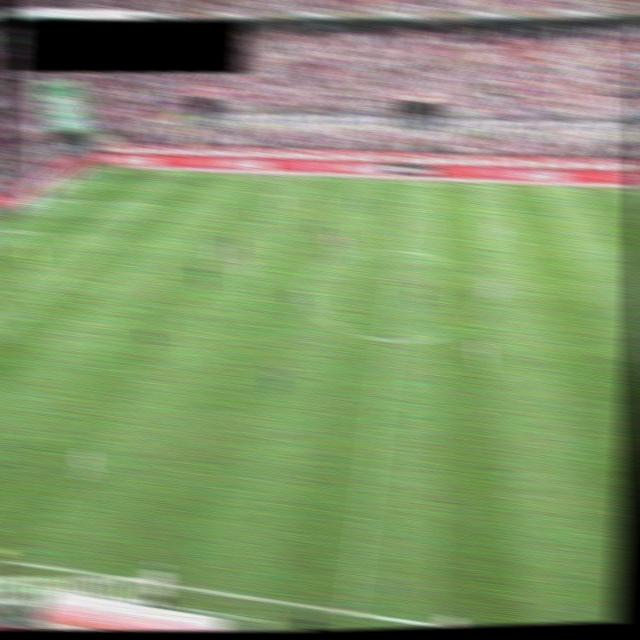bigarea_top_inner: (139, 197, 159, 209)
bigarea_top_outter: (39, 192, 60, 206)
bottom_arc_area_intersection: (26, 292, 50, 312)
corner: (86, 164, 107, 177)
halfcircle_bottom: (378, 332, 398, 347)
halfcircle_top: (391, 242, 412, 258)
midline_bottom_intersection: (334, 601, 365, 623)
midline_top_intersection: (400, 175, 420, 188)
smallarea_top_inner: (24, 224, 45, 236)
smallarea_top_outter: (0, 222, 9, 235)
top_arc_area_intersection: (96, 232, 118, 247)
